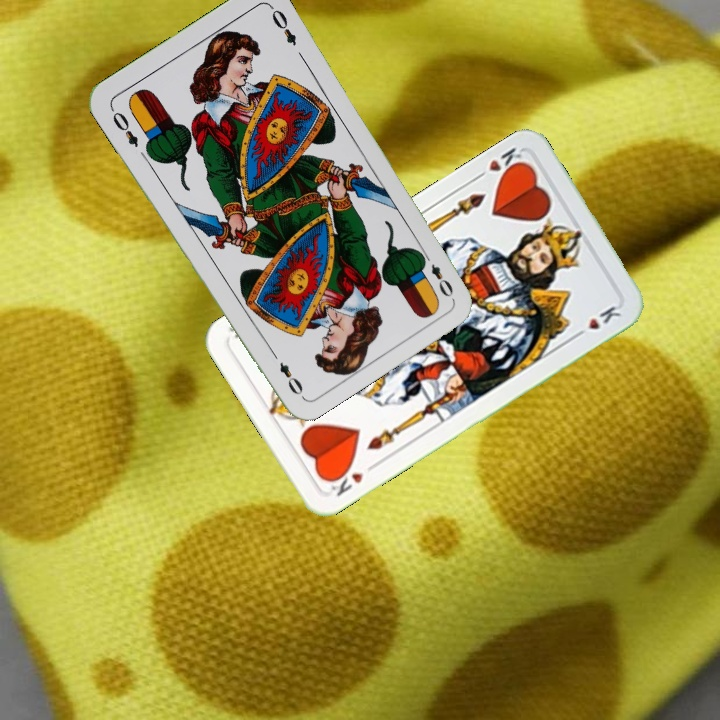EO: (418, 248, 456, 300), (106, 104, 141, 150)
HK: (470, 143, 527, 183), (323, 463, 366, 499)
